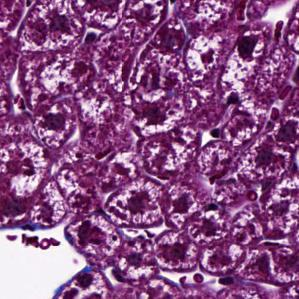inflammation: (102, 181, 171, 230), (31, 97, 82, 153), (30, 98, 83, 151), (224, 26, 265, 93)
